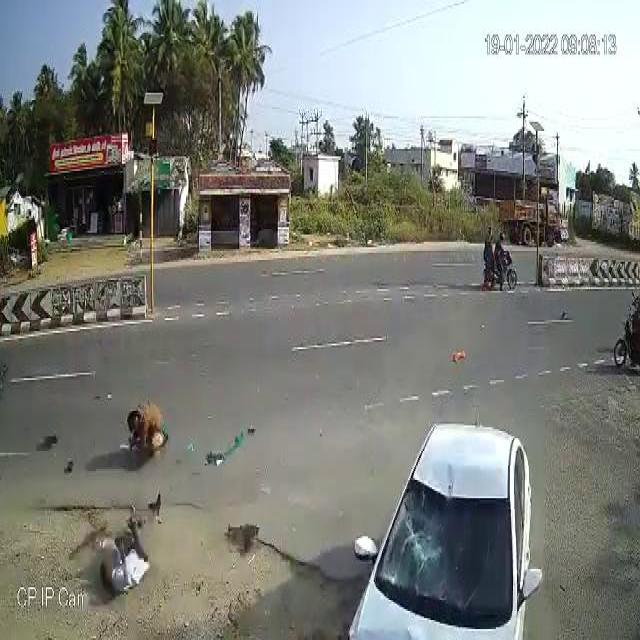accident: (348, 414, 543, 640)
